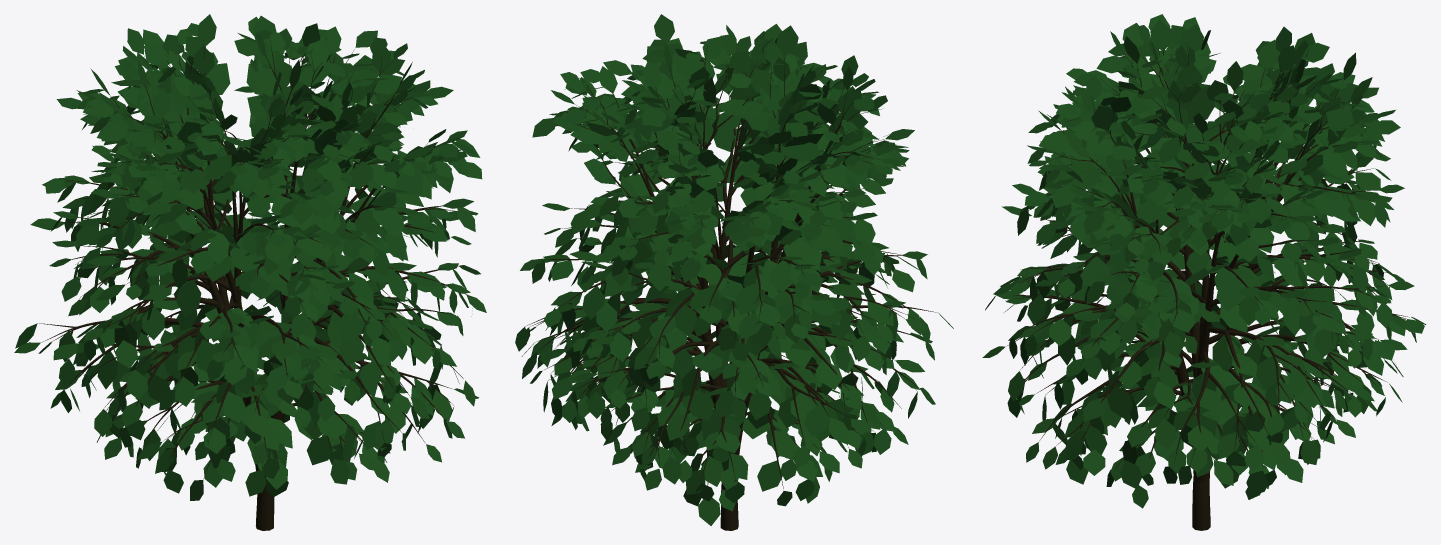
File: NormalTree.fbx
3 renders of one model, left to right at view 1: azimuth 30°, elevation 25°; view 2: azimuth 150°, elevation 25°; view 3: azimuth 270°, elevation 25°, orthographic.
Parts seen in each view (by area): view 1: NormalTree_LOD0; view 2: NormalTree_LOD0; view 3: NormalTree_LOD0.
Part boxes in pixels (<box>): NormalTree_LOD0: <box>14,14,486,530</box>; NormalTree_LOD0: <box>515,14,953,530</box>; NormalTree_LOD0: <box>982,14,1426,530</box>.
Size of what is drawn, in the model's own units: 1010 by 1177 by 988.
